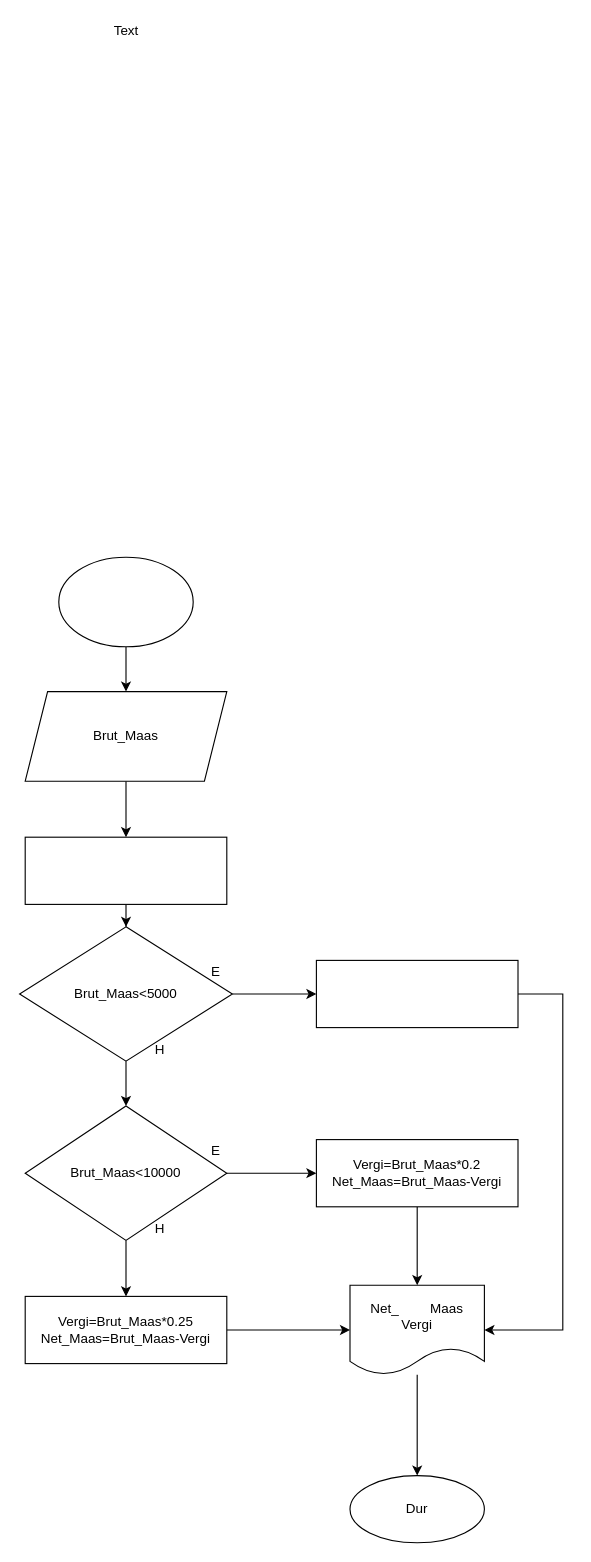
Image size: 591x1562. Some labels were removed from this diagram. The shapes that lost their labels are listed below. From the top down, each one's centre as x and y in pixels, then its label:
At [125,601]: "Başla".
At [125,870]: "Vergi=0,Net_Maas=0".
At [416,993]: "Vergi=Brut_Maas*0.15 Net_Maas=Brut_Maas-Vergi".
